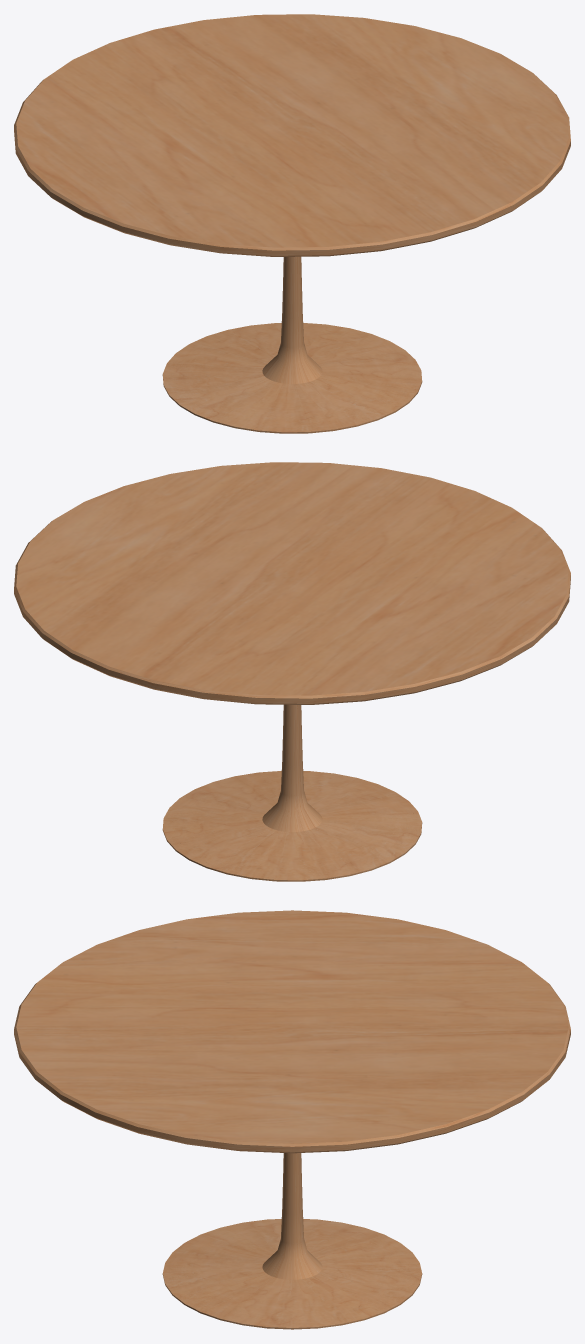
The model's file is mesaRedonda.fbx.
The picture shows the model from 3 angles, top to bottom: view 1: azimuth 30°, elevation 25°; view 2: azimuth 150°, elevation 25°; view 3: azimuth 270°, elevation 25°; orthographic projection.
Parts seen in each view (by area): view 1: mesaRedonda; view 2: mesaRedonda; view 3: mesaRedonda.
Boxes of the visible parts, box(x1,y1,x2,y2) form: mesaRedonda: box(14, 14, 570, 433); mesaRedonda: box(14, 462, 570, 881); mesaRedonda: box(14, 910, 570, 1329).
Bounding box in the file's own units: 1.6 × 1.6 × 0.7847.
